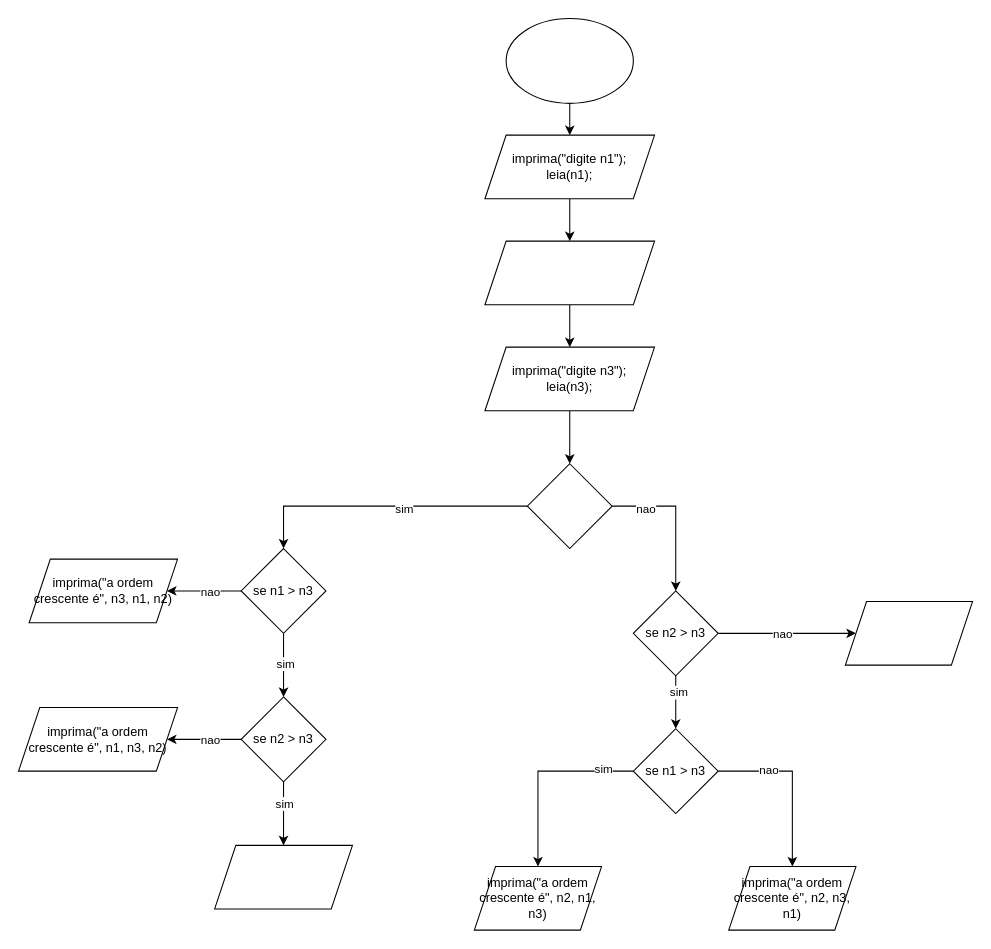
Image size: 991x949. Some labels were removed from this diagram. Here are the shapes that lost their labels. From the top down, the centre of each, then its label:
point 569,60: inicio
point 569,272: imprima("digite n2"); leia(n2);
point 569,506: se n1 > n2
point 908,632: imprima("a ordem crescente é", n3, n2, n1)
point 283,876: imprima("a ordem crescente é", n1, n2, n3)
